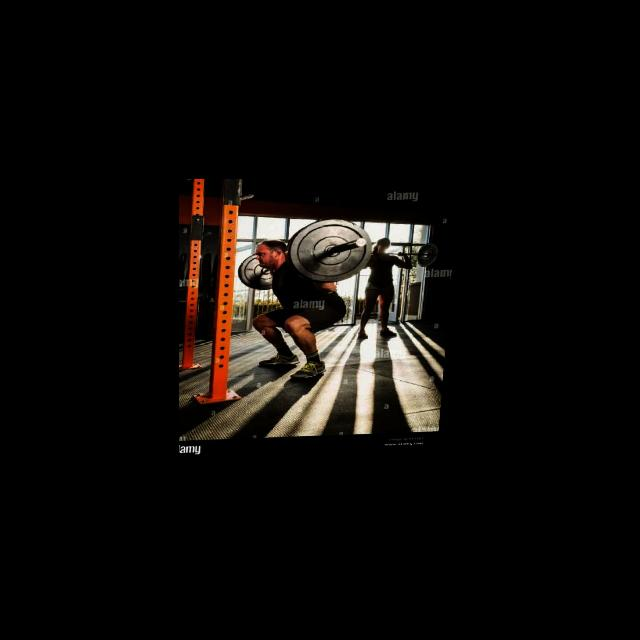barbell: (284, 216, 377, 287)
